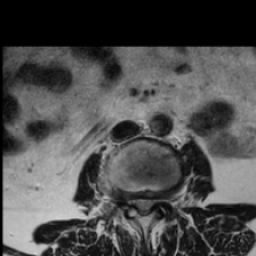CCS_stenosis: (140, 190, 147, 221)
LFS_severe_stenosis: (155, 190, 164, 214)
LLS_stenosis: (147, 190, 155, 215)
RFS_severe_stenosis: (122, 189, 132, 210)
RLS_stenosis: (132, 190, 140, 214)
